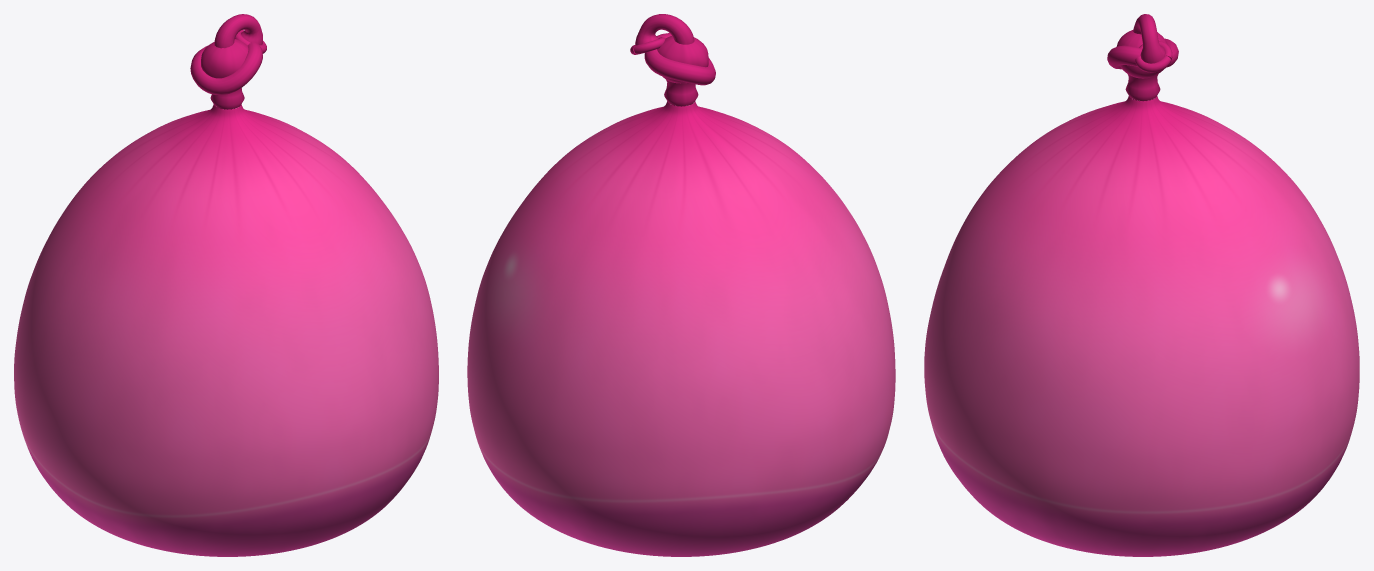
File: balloon.glb
3 views of the same model, side by side, from view 1: azimuth 30°, elevation 25°; view 2: azimuth 150°, elevation 25°; view 3: azimuth 270°, elevation 25° (orthographic).
Visible parts, largest first — view 1: balloon; view 2: balloon; view 3: balloon.
Part boxes in pixels (<box>): balloon: <box>14,14,438,556</box>; balloon: <box>467,14,895,556</box>; balloon: <box>924,14,1359,556</box>.
Bounding box in the file's own units: 0.876 × 1.11 × 0.8783.
1 material, 1 textured.
